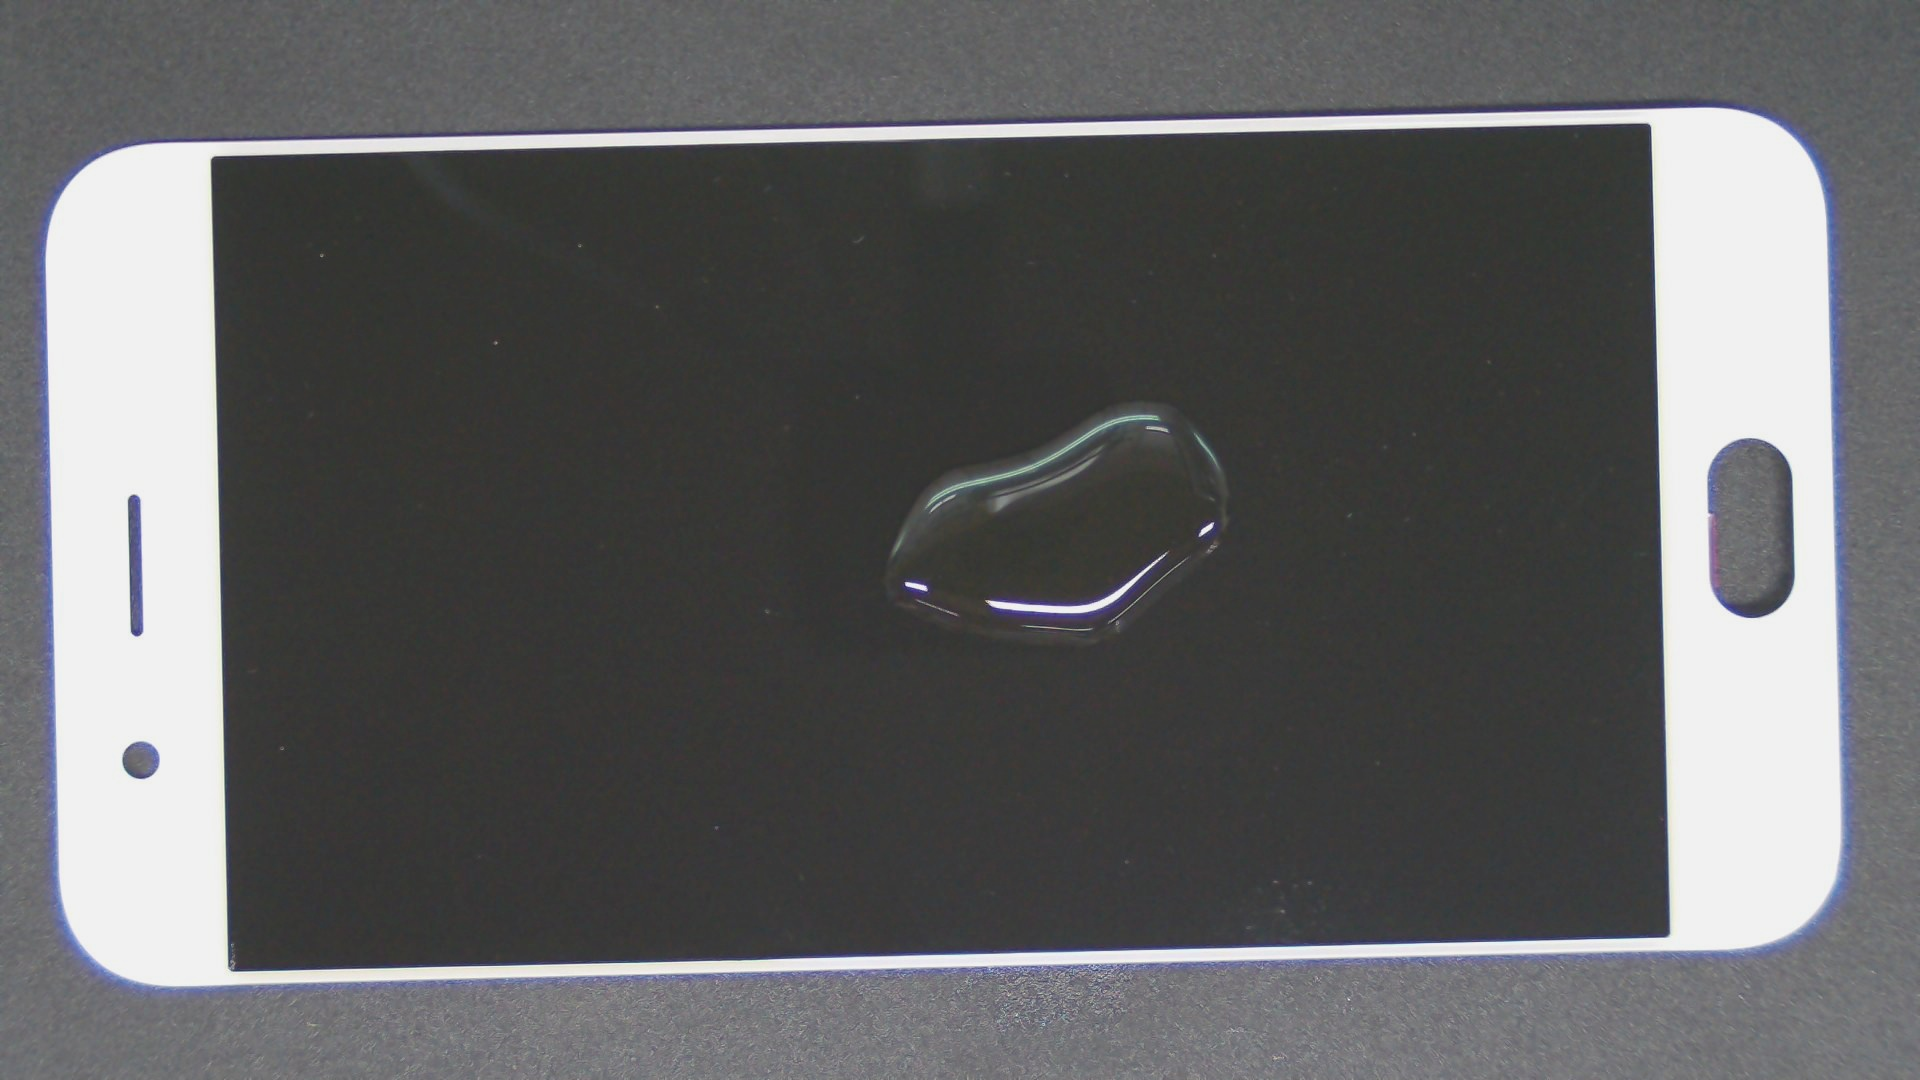oil: (568, 200, 1704, 603)
